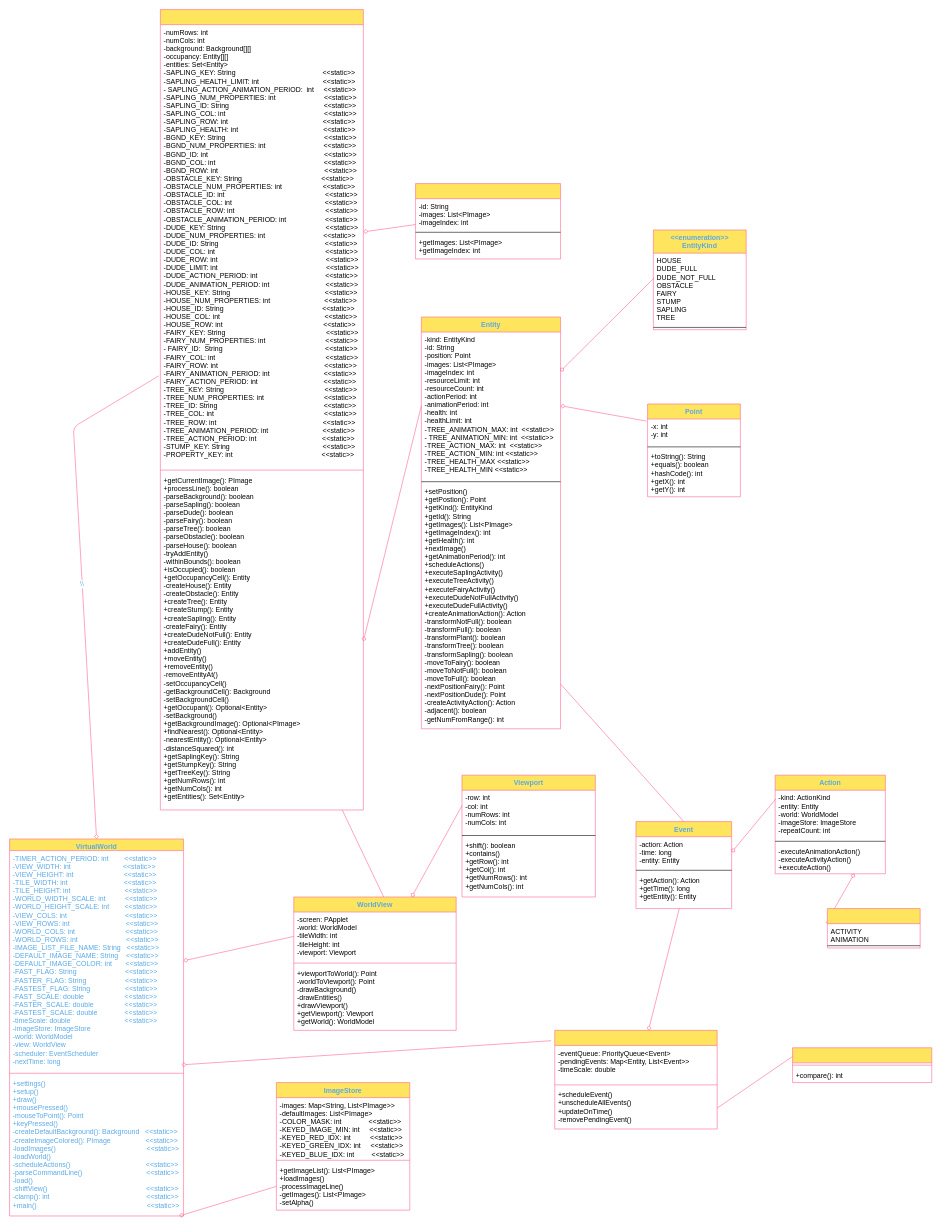
The diagram is 941 pixels wide and 1227 high, and some of its shapes have lost their labels. Here are the shapes that lost their labels. From the top down, the box of each, then its label:
(415, 183, 561, 259): Background
(160, 9, 363, 810): WorldModel
(827, 908, 920, 948): ActionKind
(554, 1030, 717, 1129): EventScheduler
(792, 1047, 932, 1083): EventComparator
